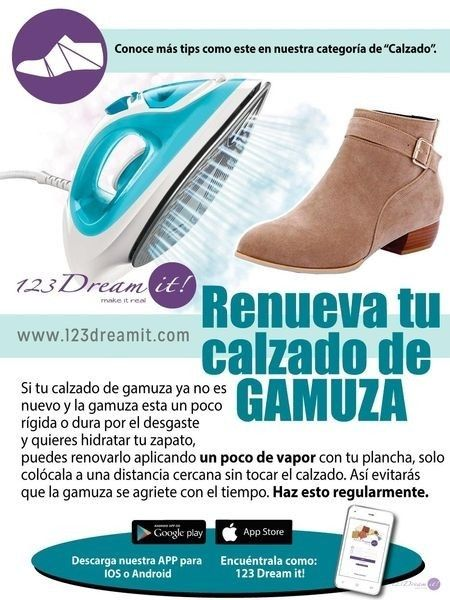gamuza: (236, 108, 443, 269)
